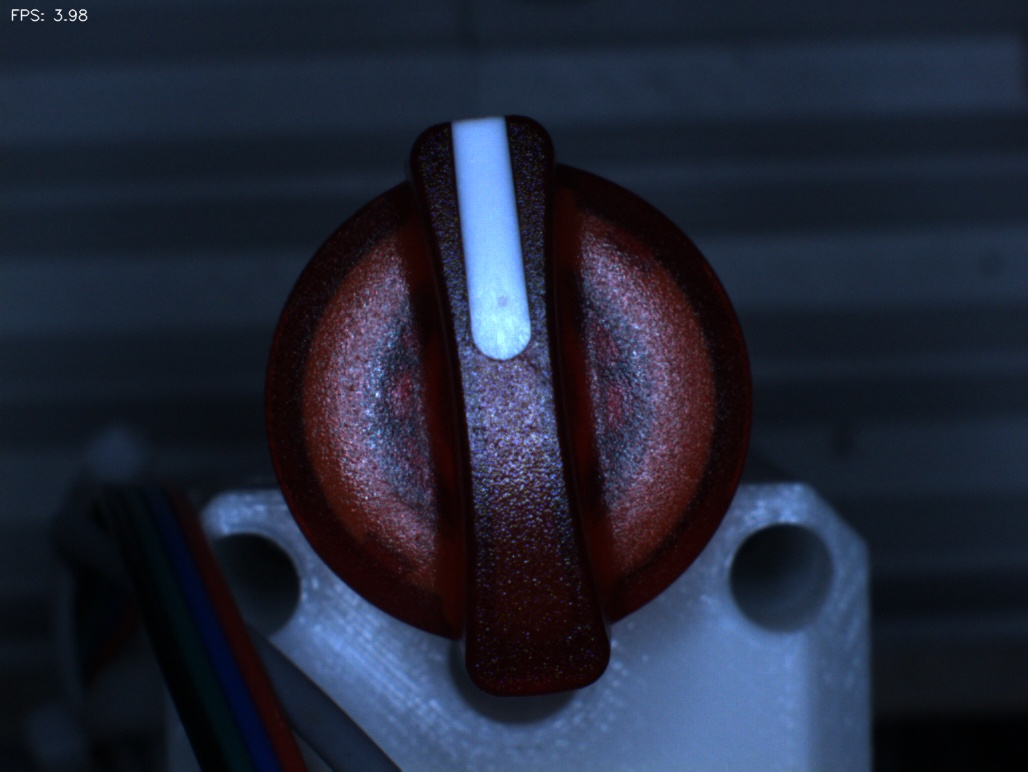PointNoir: (467, 259, 544, 337)
